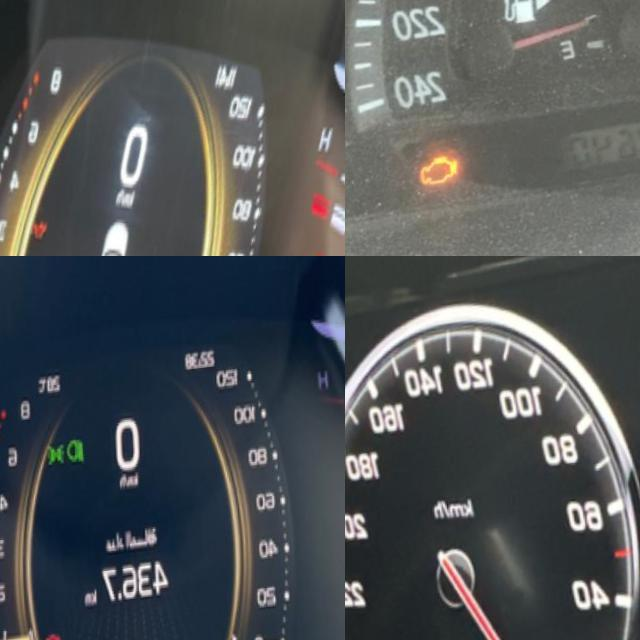Low beam: (64, 442, 85, 474)
